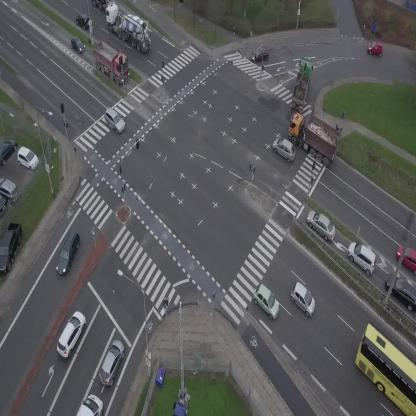car: (51, 308, 90, 359), (95, 337, 129, 388), (342, 237, 384, 277), (247, 281, 286, 321), (302, 205, 342, 243), (52, 230, 83, 276), (285, 280, 322, 317), (268, 134, 300, 163), (100, 106, 129, 135), (396, 246, 416, 275), (66, 34, 87, 57), (73, 12, 94, 31), (250, 46, 270, 61), (368, 41, 382, 56)
lorry: (279, 106, 348, 169), (95, 0, 160, 55), (84, 36, 138, 87), (289, 58, 315, 111), (76, 394, 103, 416)
